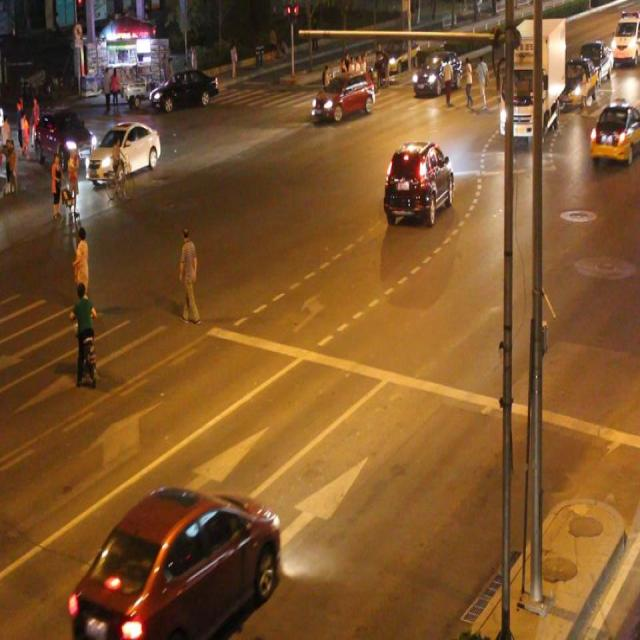bus: (499, 15, 564, 145)
car: (72, 481, 281, 640), (385, 138, 452, 222), (31, 104, 99, 170), (86, 122, 160, 180), (588, 95, 640, 163), (149, 67, 221, 111), (312, 72, 372, 122), (412, 50, 462, 96)
